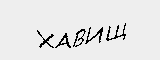А: (56, 30, 70, 52)
В: (73, 26, 86, 49)
И: (84, 24, 103, 49)
Х: (34, 29, 54, 49)
Щ: (107, 20, 127, 41)
